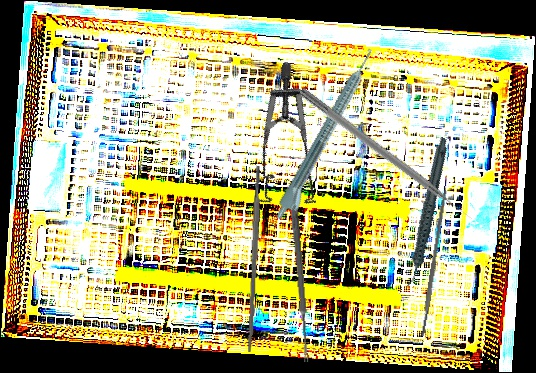Handpiece: (271, 45, 385, 227), (374, 136, 478, 289)
Pusher: (296, 86, 476, 226)
Scalpel Handle: (419, 189, 448, 337), (245, 165, 264, 353)
Speculum: (215, 60, 371, 227)
Surgical Spoon: (288, 199, 312, 363)
